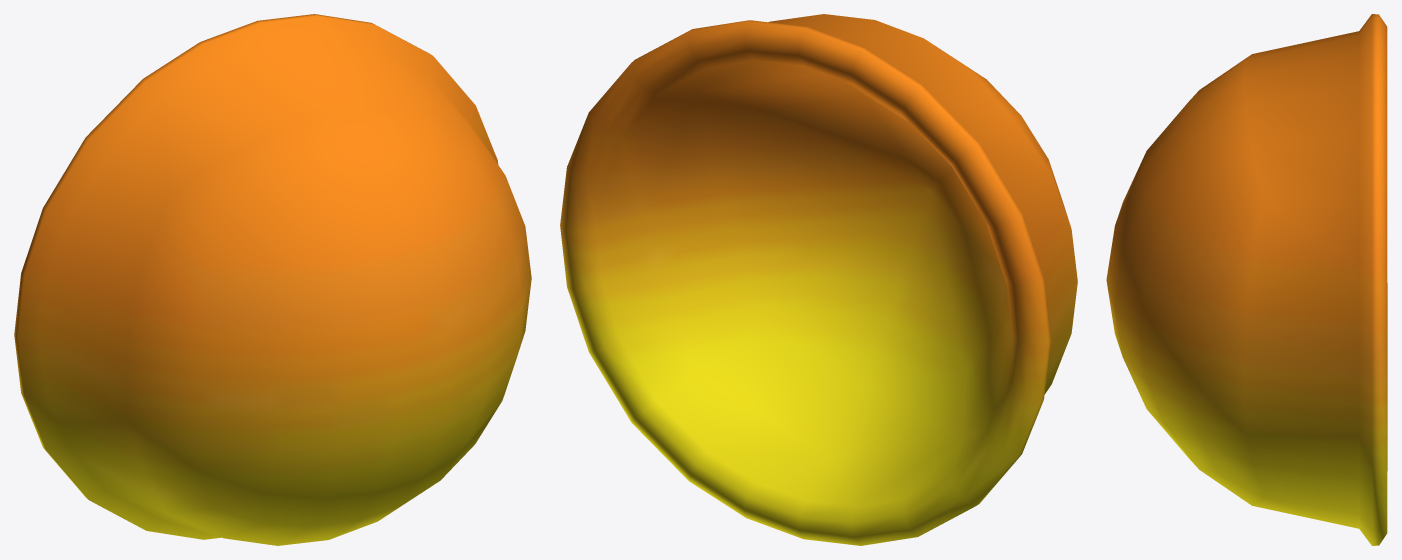
Rendered from Amongus02_Cut_025_0.FBX.
3 views of the same model, side by side, from view 1: azimuth 30°, elevation 25°; view 2: azimuth 150°, elevation 25°; view 3: azimuth 270°, elevation 25° (orthographic). The views are drawn at different scales.
Visible parts, largest first — view 1: Amongus02_Cut_025_0; view 2: Amongus02_Cut_025_0; view 3: Amongus02_Cut_025_0.
Part boxes in pixels (left/top/right/bottom): Amongus02_Cut_025_0: left=14, top=14, right=531, bottom=545; Amongus02_Cut_025_0: left=560, top=14, right=1077, bottom=545; Amongus02_Cut_025_0: left=1106, top=14, right=1387, bottom=545.
Size of the model in its own units: 0.7584 by 0.4 by 0.7584.
